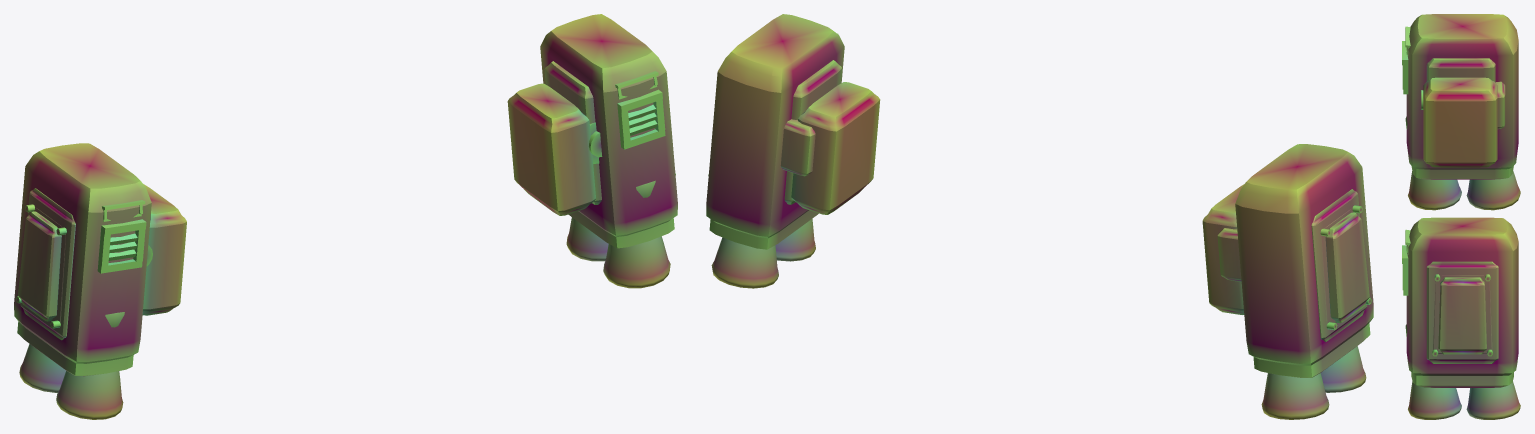
The model's file is llm_gen_leg_thrusters_003_3ad765.glb.
The picture shows the model from 3 angles, left to right: view 1: azimuth 30°, elevation 25°; view 2: azimuth 150°, elevation 25°; view 3: azimuth 270°, elevation 25°; orthographic projection. The views are drawn at different scales.
Parts seen in each view (by area): view 1: hover_cowling_armor_1_adapter_dark_l, hover_cowling_armor_1_adapter_dark_r, adapter_calf_clamp_r, hover_flank_panel_5_wing_white_l, adapter_calf_clamp_l, hover_bell_fwd_7_vernier_bell_vernier_l, hover_bell_fwd_7_vernier_bell_vernier_r, adapter_sub_hover_flank_dark_4_adapter_dark_l, hover_core_mount_0_adapter_dark_r, adapter_sub_hover_manifold_dark_6_adapter_dark_l, adapter_sub_hover_intake_grille_2_dark_r, adapter_sub_hover_intake_grille_2_dark_l (+5 smaller); view 2: hover_cowling_armor_1_adapter_dark_l, hover_cowling_armor_1_adapter_dark_r, adapter_calf_clamp_r, hover_flank_panel_5_wing_white_l, adapter_calf_clamp_l, hover_bell_aft_8_vernier_bell_vernier_l, hover_bell_aft_8_vernier_bell_vernier_r, adapter_sub_hover_flank_dark_4_adapter_dark_l, hover_core_mount_0_adapter_dark_r, adapter_leg_tank_collar_dark_9_adapter_dark_r, adapter_sub_hover_manifold_dark_6_adapter_dark_l, hover_bell_fwd_7_vernier_bell_vernier_l (+3 smaller); view 3: hover_cowling_armor_1_adapter_dark_r, hover_cowling_armor_1_adapter_dark_l, adapter_calf_clamp_l, hover_flank_panel_5_wing_white_r, adapter_sub_hover_flank_dark_4_adapter_dark_r, hover_bell_aft_8_vernier_bell_vernier_r, hover_bell_fwd_7_vernier_bell_vernier_r, hover_bell_aft_8_vernier_bell_vernier_l, hover_bell_fwd_7_vernier_bell_vernier_l, hover_core_mount_0_adapter_dark_l, adapter_sub_hover_manifold_dark_6_adapter_dark_r, adapter_sub_hover_manifold_dark_6_adapter_dark_l (+4 smaller).
Part boxes in pixels (x1,y1,x2,y2): hover_cowling_armor_1_adapter_dark_l: (14, 143, 151, 363); hover_cowling_armor_1_adapter_dark_r: (540, 14, 677, 236); adapter_calf_clamp_r: (507, 83, 599, 215); hover_flank_panel_5_wing_white_l: (16, 204, 66, 328); adapter_calf_clamp_l: (142, 184, 186, 315); hover_bell_fwd_7_vernier_bell_vernier_l: (56, 371, 123, 419); hover_bell_fwd_7_vernier_bell_vernier_r: (603, 236, 670, 288); adapter_sub_hover_flank_dark_4_adapter_dark_l: (20, 188, 75, 340); hover_core_mount_0_adapter_dark_r: (544, 61, 601, 204); adapter_sub_hover_manifold_dark_6_adapter_dark_l: (17, 321, 133, 376); adapter_sub_hover_intake_grille_2_dark_r: (617, 89, 665, 149); adapter_sub_hover_intake_grille_2_dark_l: (97, 219, 146, 273); hover_cowling_armor_1_adapter_dark_l: (1235, 144, 1373, 365); hover_cowling_armor_1_adapter_dark_r: (706, 14, 844, 238); adapter_calf_clamp_r: (791, 82, 880, 214); hover_flank_panel_5_wing_white_l: (1320, 205, 1371, 330); adapter_calf_clamp_l: (1202, 184, 1244, 314); hover_bell_aft_8_vernier_bell_vernier_l: (1261, 373, 1329, 419); hover_bell_aft_8_vernier_bell_vernier_r: (711, 237, 778, 288); adapter_sub_hover_flank_dark_4_adapter_dark_l: (1311, 189, 1367, 341); hover_core_mount_0_adapter_dark_r: (784, 60, 842, 204); adapter_leg_tank_collar_dark_9_adapter_dark_r: (780, 119, 815, 176); adapter_sub_hover_manifold_dark_6_adapter_dark_l: (1253, 323, 1370, 377); hover_bell_fwd_7_vernier_bell_vernier_l: (1321, 346, 1366, 392); hover_cowling_armor_1_adapter_dark_r: (1406, 217, 1518, 375); hover_cowling_armor_1_adapter_dark_l: (1406, 14, 1518, 169); adapter_calf_clamp_l: (1423, 77, 1497, 167); hover_flank_panel_5_wing_white_r: (1432, 274, 1492, 356); adapter_sub_hover_flank_dark_4_adapter_dark_r: (1426, 261, 1498, 363); hover_bell_aft_8_vernier_bell_vernier_r: (1466, 381, 1520, 419); hover_bell_fwd_7_vernier_bell_vernier_r: (1408, 381, 1461, 419); hover_bell_aft_8_vernier_bell_vernier_l: (1466, 170, 1520, 210); hover_bell_fwd_7_vernier_bell_vernier_l: (1408, 171, 1461, 210); hover_core_mount_0_adapter_dark_l: (1426, 58, 1495, 82); adapter_sub_hover_manifold_dark_6_adapter_dark_r: (1411, 372, 1513, 387); adapter_sub_hover_manifold_dark_6_adapter_dark_l: (1411, 166, 1513, 179).
Size of the model in its own units: 86.05 by 29.84 by 17.61.
